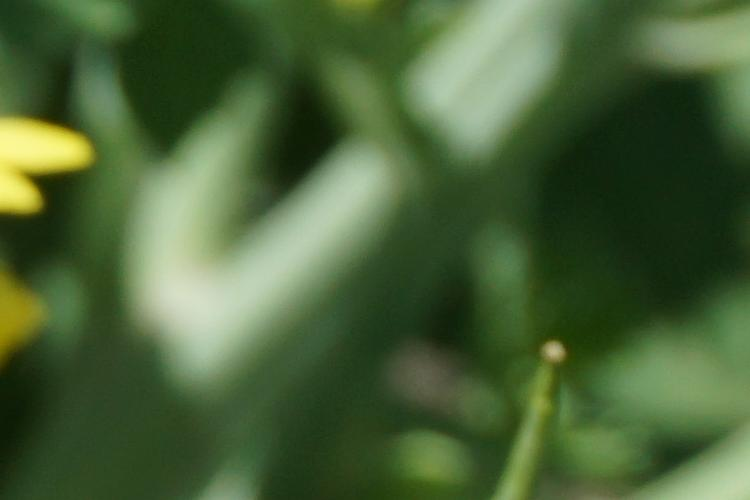pod: (494, 339, 575, 492)
